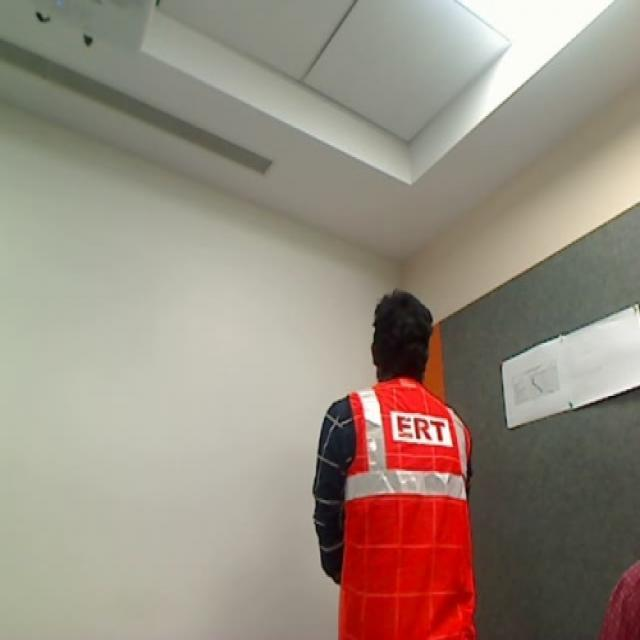safety_helmet: (328, 382, 482, 640)
